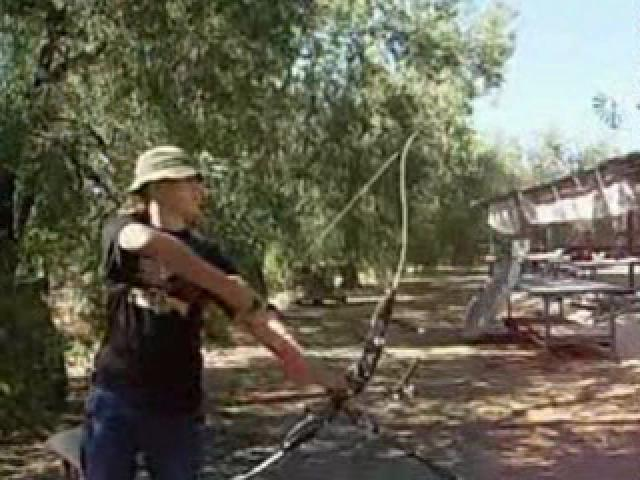I: (63, 130, 334, 480)
